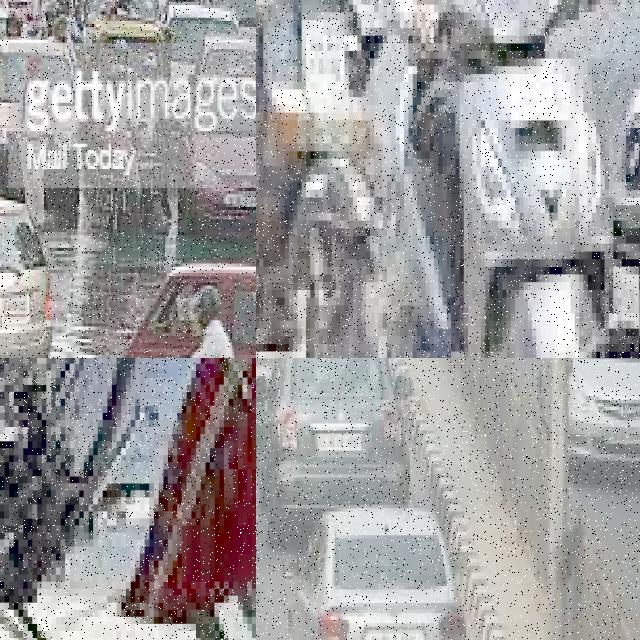bike: (369, 0, 630, 358), (0, 358, 256, 640), (256, 0, 382, 358)
